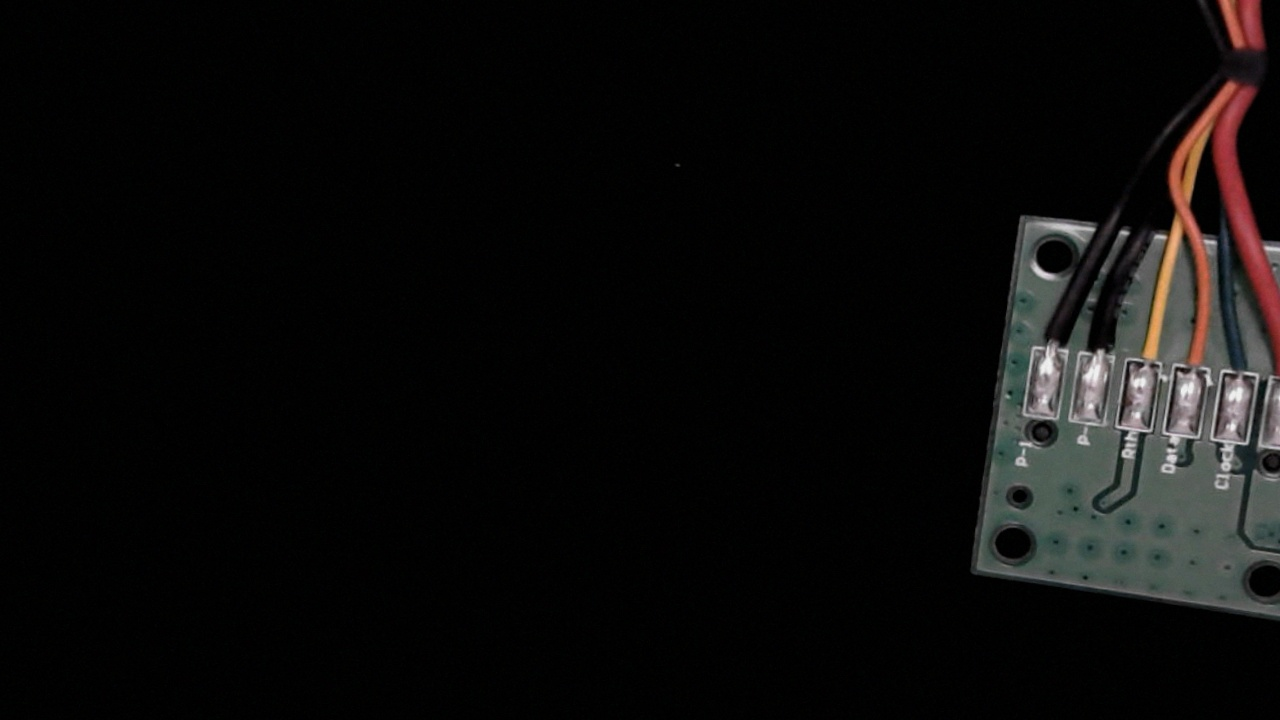Black: (1077, 298, 1125, 375)
Black1: (1029, 289, 1080, 369)
Green: (1218, 324, 1270, 395)
Orange: (1174, 315, 1222, 388)
Red: (1267, 317, 1280, 400)
Yellow: (1121, 306, 1173, 380)
